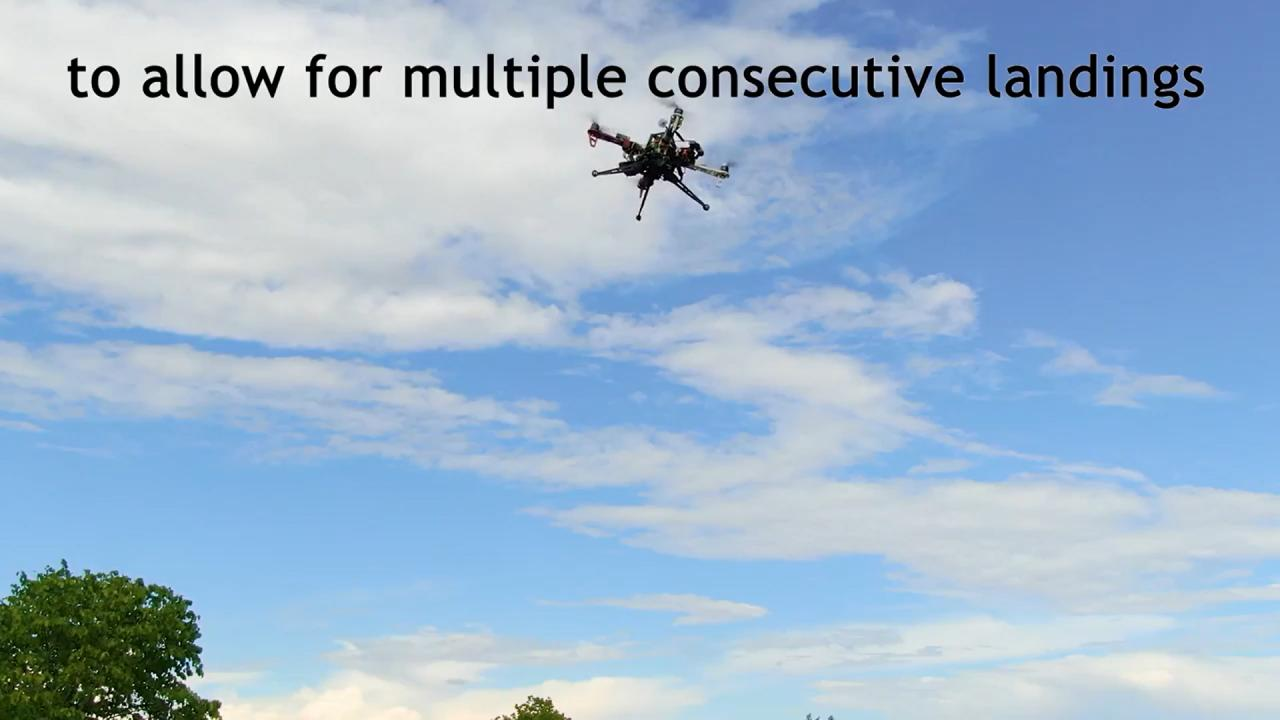Drone: (579, 100, 746, 231)
